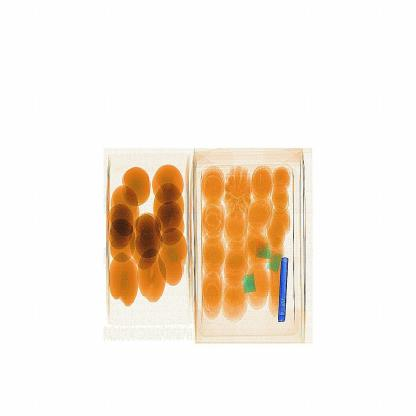pliers: (276, 254, 290, 328)
